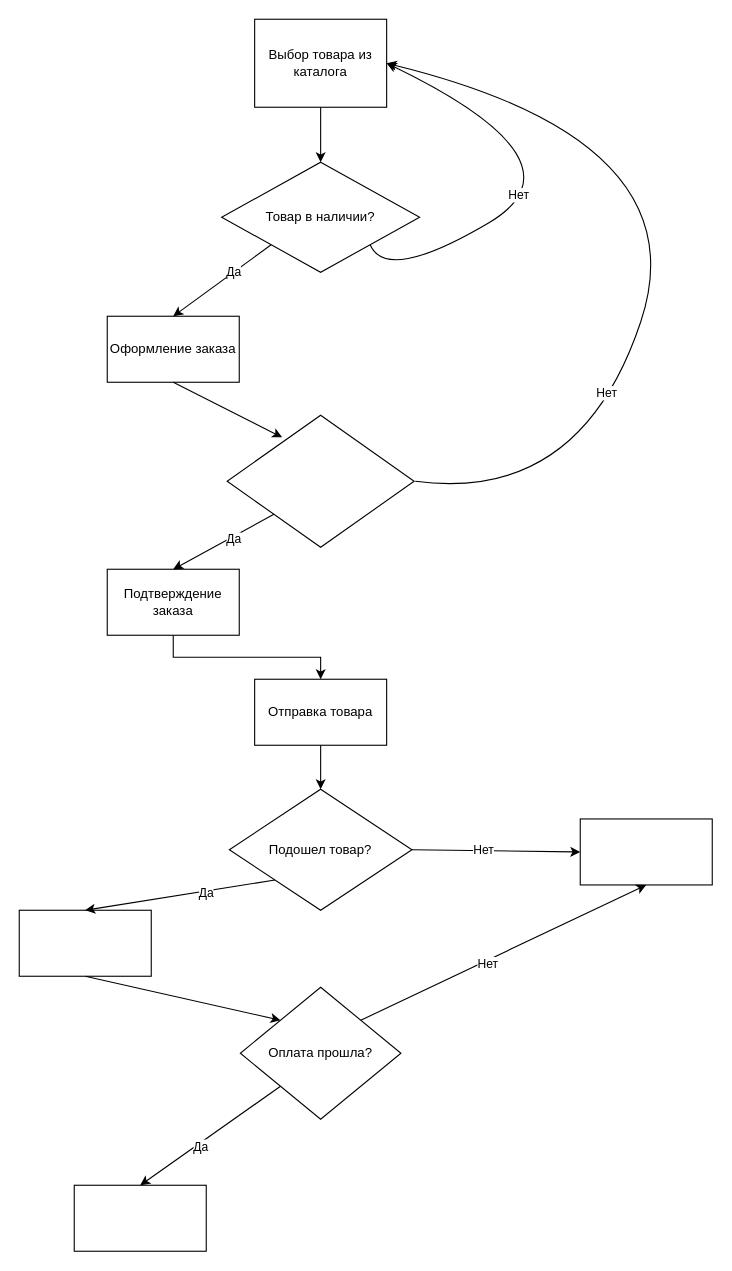
The diagram is 732 pixels wide and 1271 high, and some of its shapes have lost their labels. Each missing label, with the centre of its shape:
Возможно ли доставить?: the point at 320,480
Закрытие заказа: the point at 139,1217
Оплата заказа: the point at 84,942
Отправка на склад: the point at 645,851
